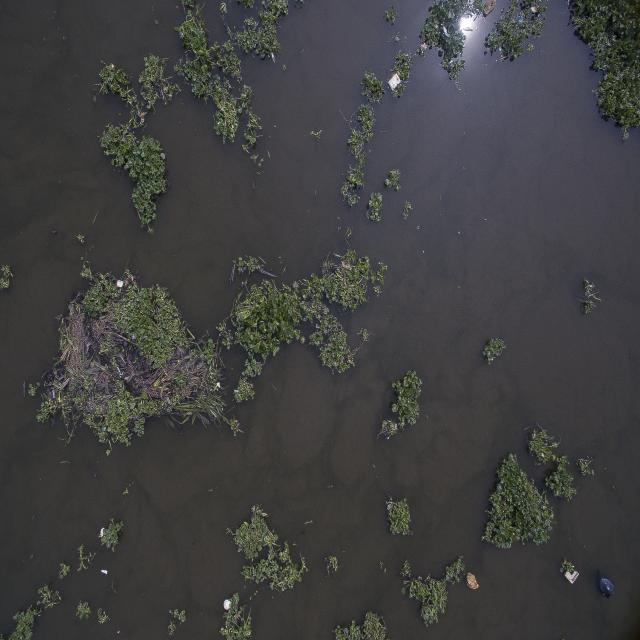plastic: (594, 567, 622, 606), (555, 556, 584, 586), (460, 568, 486, 600), (384, 65, 409, 96), (110, 273, 133, 294), (222, 598, 240, 619), (97, 562, 115, 582), (95, 526, 113, 544)
